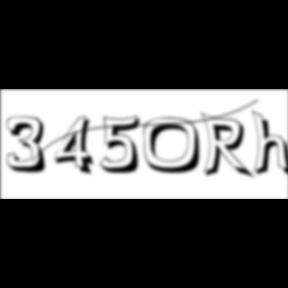3: (7, 116, 53, 176)
4: (54, 115, 100, 179)
5: (101, 114, 148, 176)
O: (144, 117, 208, 176)
R: (200, 112, 258, 182)
